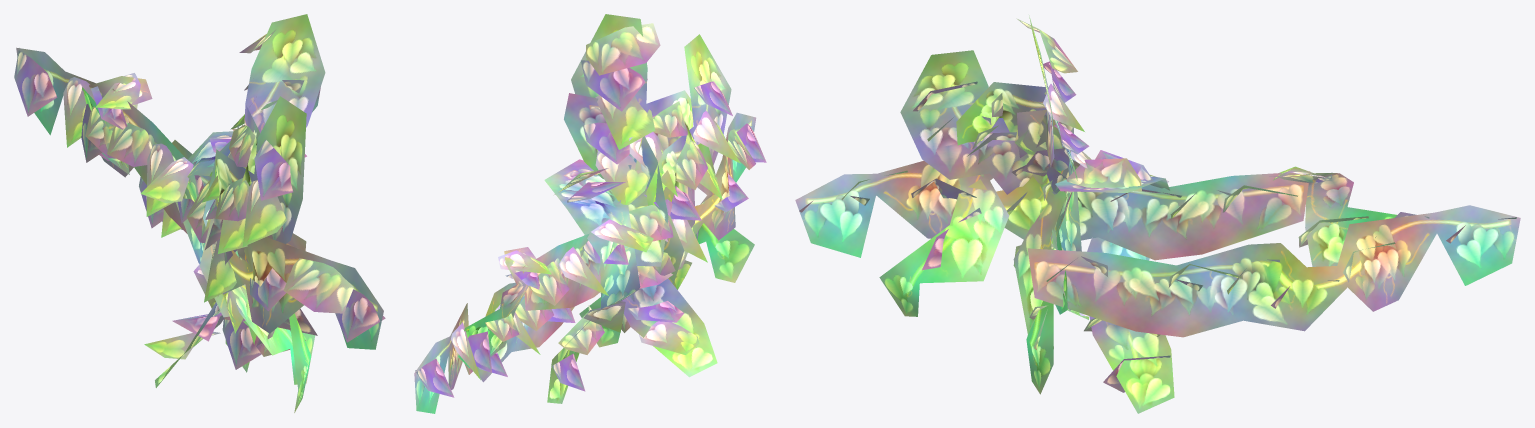
File: moonflower_04_SM.fbx
3 renders of one model, left to right at view 1: azimuth 30°, elevation 25°; view 2: azimuth 150°, elevation 25°; view 3: azimuth 270°, elevation 25°, orthographic. The views are drawn at different scales.
Visible parts, largest first — view 1: moonflower_04_SM_LOD0; view 2: moonflower_04_SM_LOD0; view 3: moonflower_04_SM_LOD0.
Part boxes in pixels (box(x1,y1,x2,y2)): moonflower_04_SM_LOD0: box(14, 14, 385, 412); moonflower_04_SM_LOD0: box(414, 14, 766, 413); moonflower_04_SM_LOD0: box(795, 15, 1520, 413).
Bounding box in the file's own units: 163 × 636 × 372.
Materials: 1 (1 with a texture image).
